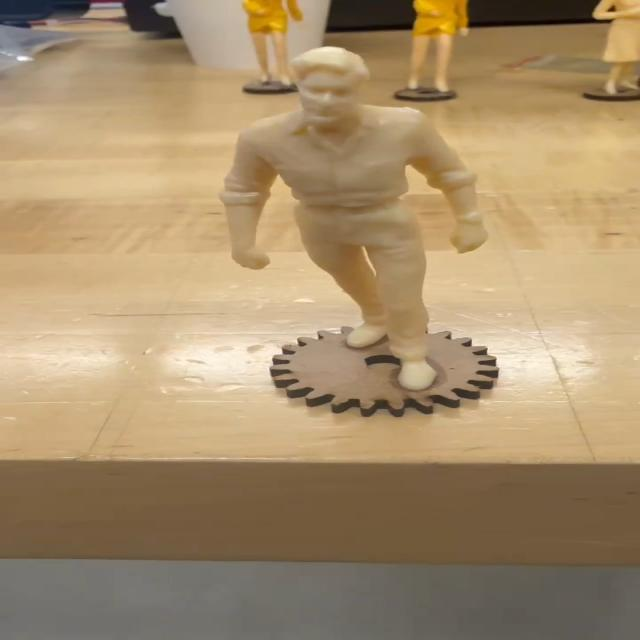Unauthorized: (222, 41, 498, 394)
